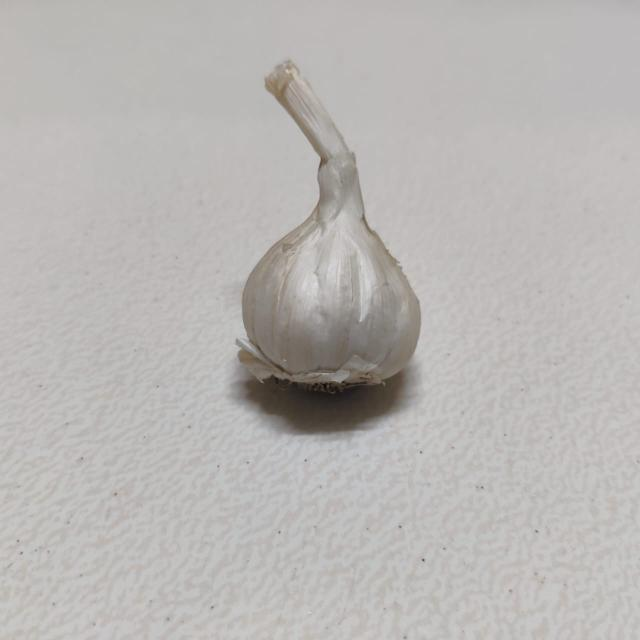Organik: (212, 45, 439, 413)
